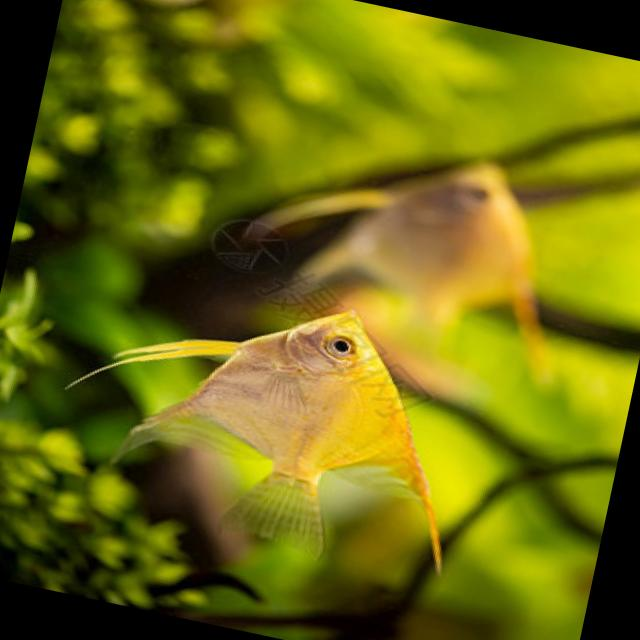AngelFish: (36, 254, 492, 590), (245, 120, 636, 371)
